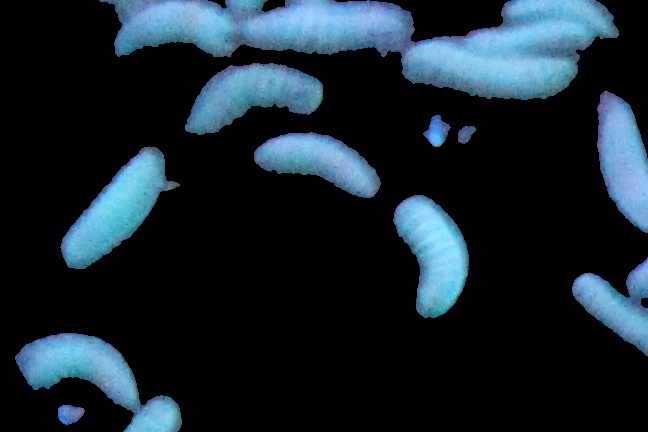larvae: (50, 152, 174, 284), (238, 122, 384, 207), (182, 60, 318, 132), (6, 336, 142, 408), (100, 4, 256, 64), (405, 44, 581, 96), (241, 8, 418, 56), (402, 204, 466, 328), (594, 98, 648, 227), (572, 270, 648, 357), (466, 22, 593, 60), (494, 3, 623, 34)
